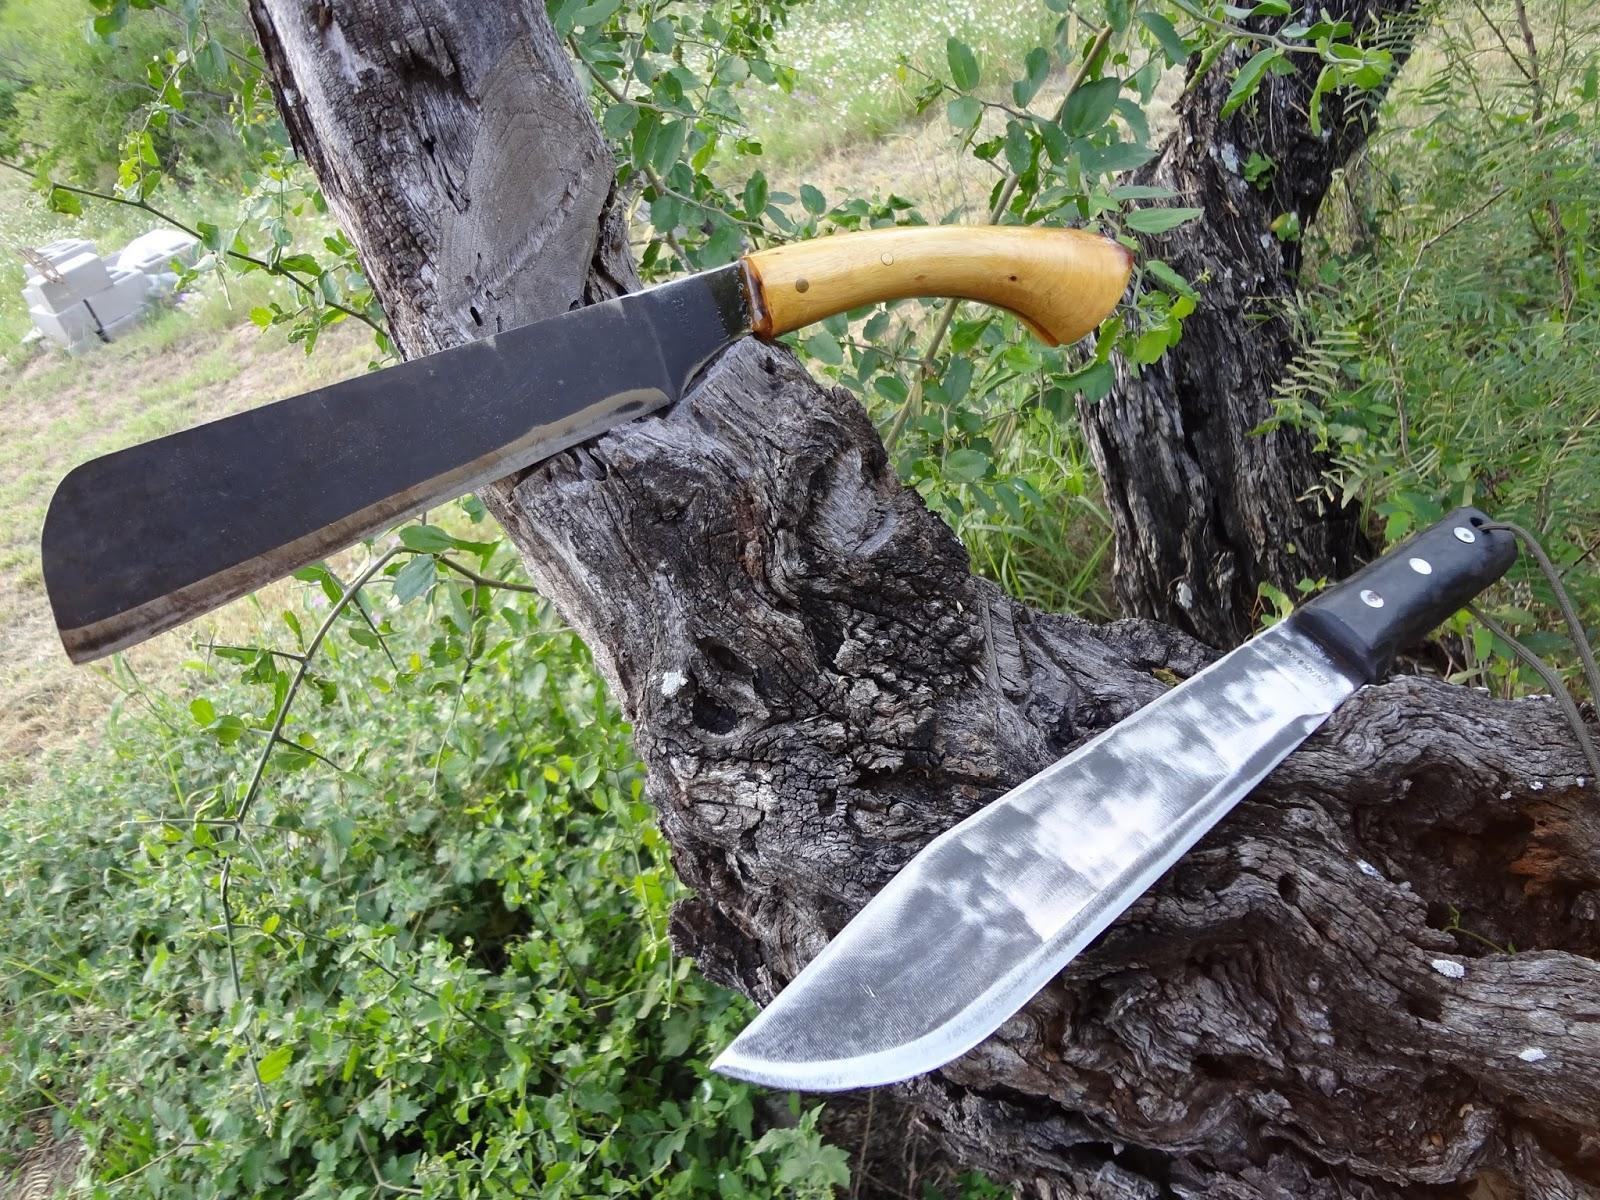facao: (723, 513, 1518, 1102), (45, 216, 1145, 618)
